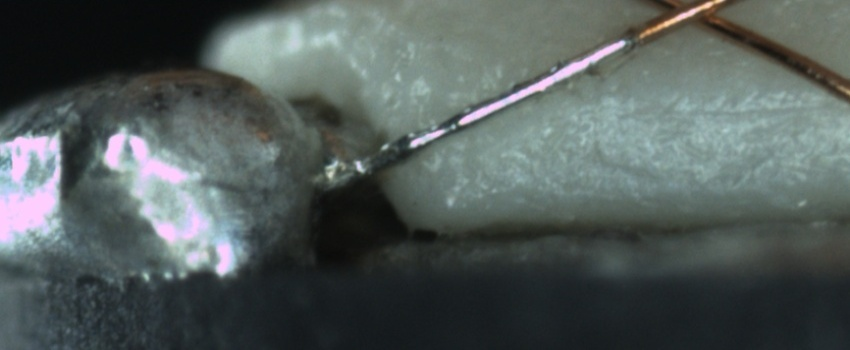CL: (644, 0, 737, 33)
DL: (642, 76, 820, 132)
TS: (326, 32, 634, 189)
